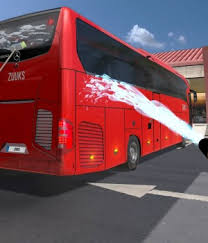bus: (1, 7, 197, 179)
